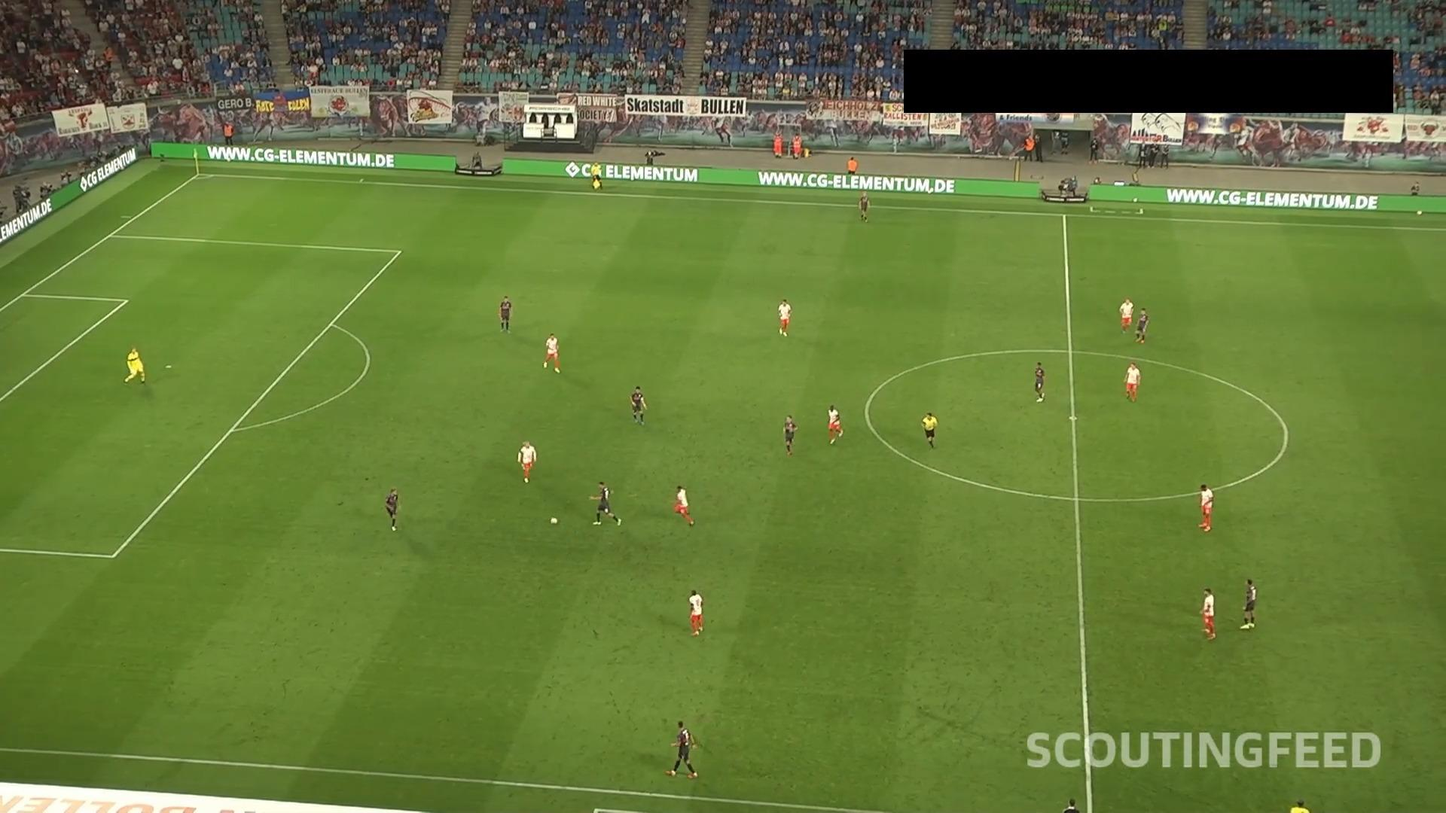ball: (550, 516, 560, 526)
goalkeeper: (124, 345, 148, 386)
player: (664, 715, 699, 781), (590, 480, 623, 528), (1199, 586, 1219, 641), (1194, 483, 1214, 532), (687, 587, 705, 641), (674, 484, 696, 528), (517, 440, 538, 485), (1241, 577, 1258, 632), (541, 332, 562, 376), (1124, 361, 1145, 404), (629, 384, 650, 426), (384, 486, 401, 534), (781, 413, 799, 456), (826, 405, 844, 446), (1133, 305, 1151, 344), (1031, 358, 1046, 403), (1118, 298, 1136, 335), (776, 297, 792, 338), (498, 295, 515, 333), (857, 188, 872, 224)
referee: (920, 411, 940, 452), (589, 160, 607, 193), (1288, 798, 1309, 813)
